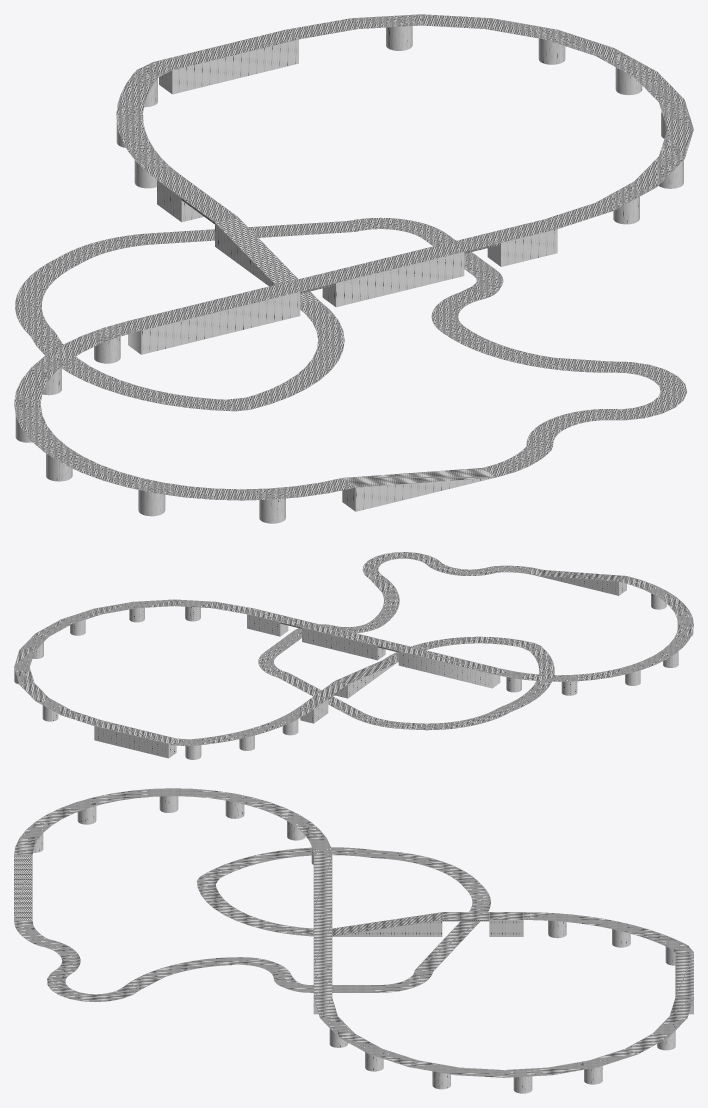
Rendered from TwoFloorTrack.dae.
3 views of the same model, one above another, from view 1: azimuth 30°, elevation 25°; view 2: azimuth 150°, elevation 25°; view 3: azimuth 270°, elevation 25° (orthographic). The views are drawn at different scales.
Parts seen in each view (by area): view 1: SketchUp (×8); view 2: SketchUp (×8); view 3: SketchUp (×3).
Part boxes in pixels (x1,y1,x2,y2): SketchUp (×8): (14,14,693,511); SketchUp (×8): (14,552,693,758); SketchUp (×3): (14,788,693,1077).
Size of the model in its own units: 28940 by 28717 by 787.
Materials: 3 (2 with a texture image).
